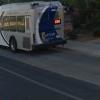Bus: (2, 1, 67, 52)
